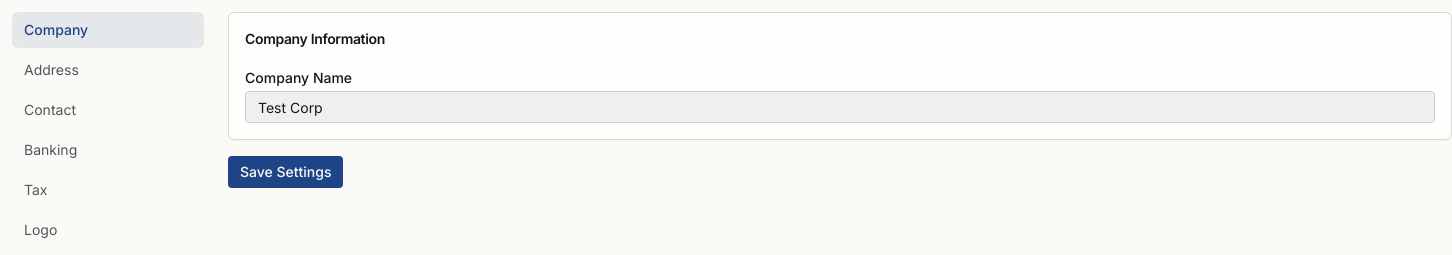
Test: SettingsForm › keeps all 13 form fields in DOM regardless of active section
Click the button "Tax". click: [108, 190]
box: [12,172,204,208]
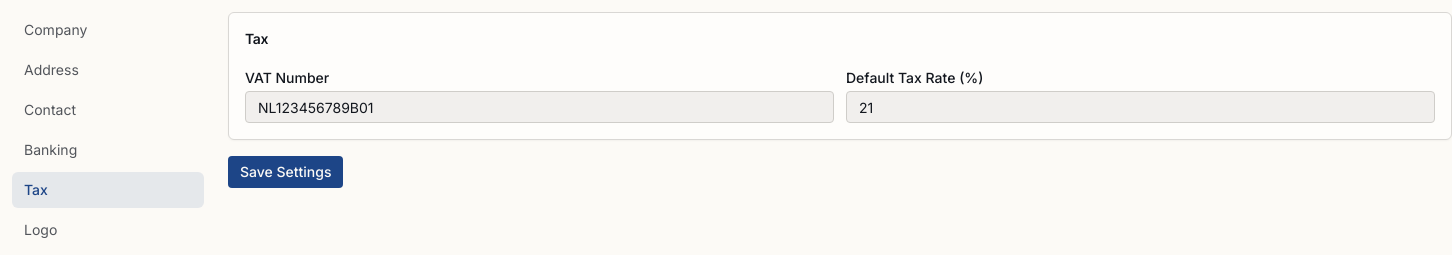
Now the field labelled "VAT Number" is shown, box [245,91,834,123]
Now the number field labelled "Default Tax Rate (%)" is shown, box [846,91,1435,123]
